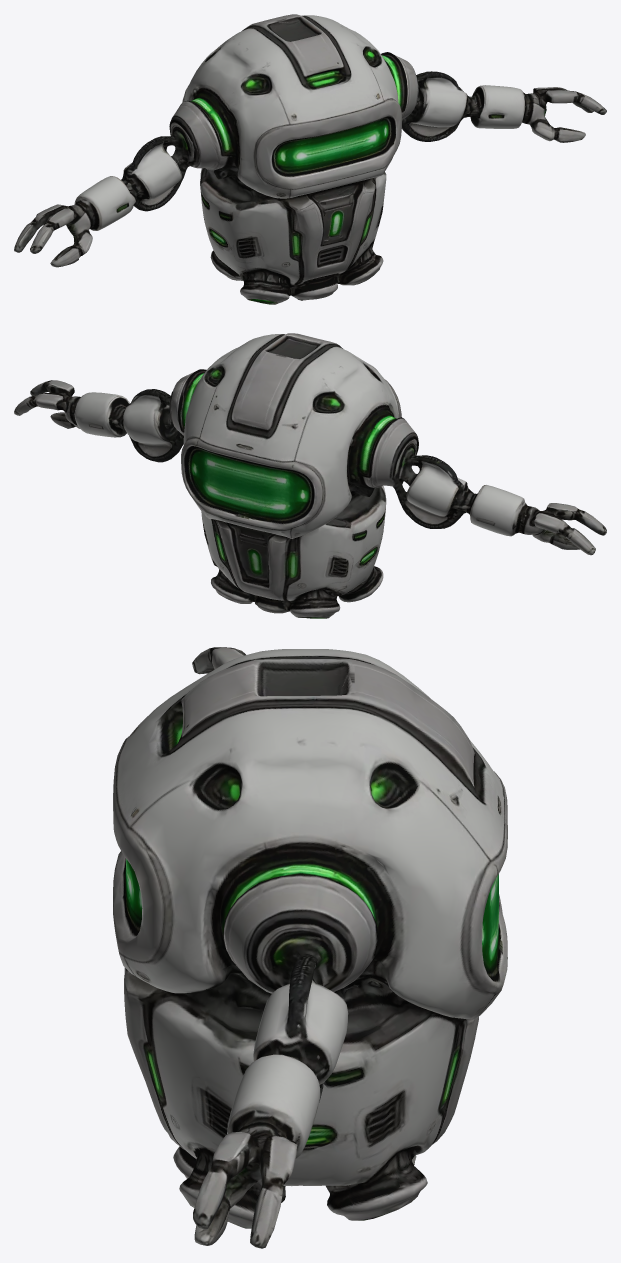
Rendered from robot_reparador_optimizado.glb.
The picture shows the model from 3 angles, top to bottom: view 1: azimuth 30°, elevation 25°; view 2: azimuth 150°, elevation 25°; view 3: azimuth 270°, elevation 25°; orthographic projection. The views are drawn at different scales.
Parts seen in each view (by area): view 1: input; view 2: input; view 3: input.
Boxes of the visible parts, left/top/right/bottom form: input: left=14, top=14, right=606, bottom=304; input: left=14, top=333, right=606, bottom=618; input: left=113, top=647, right=507, bottom=1248.
Bounding box in the file's own units: 0.35 × 0.1483 × 0.1033.
Materials: 1 (1 with a texture image).
